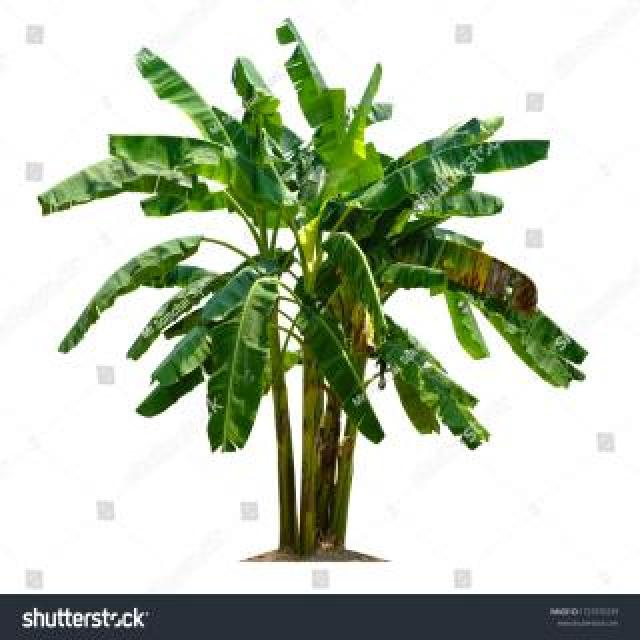Pisang: (47, 29, 596, 557)
